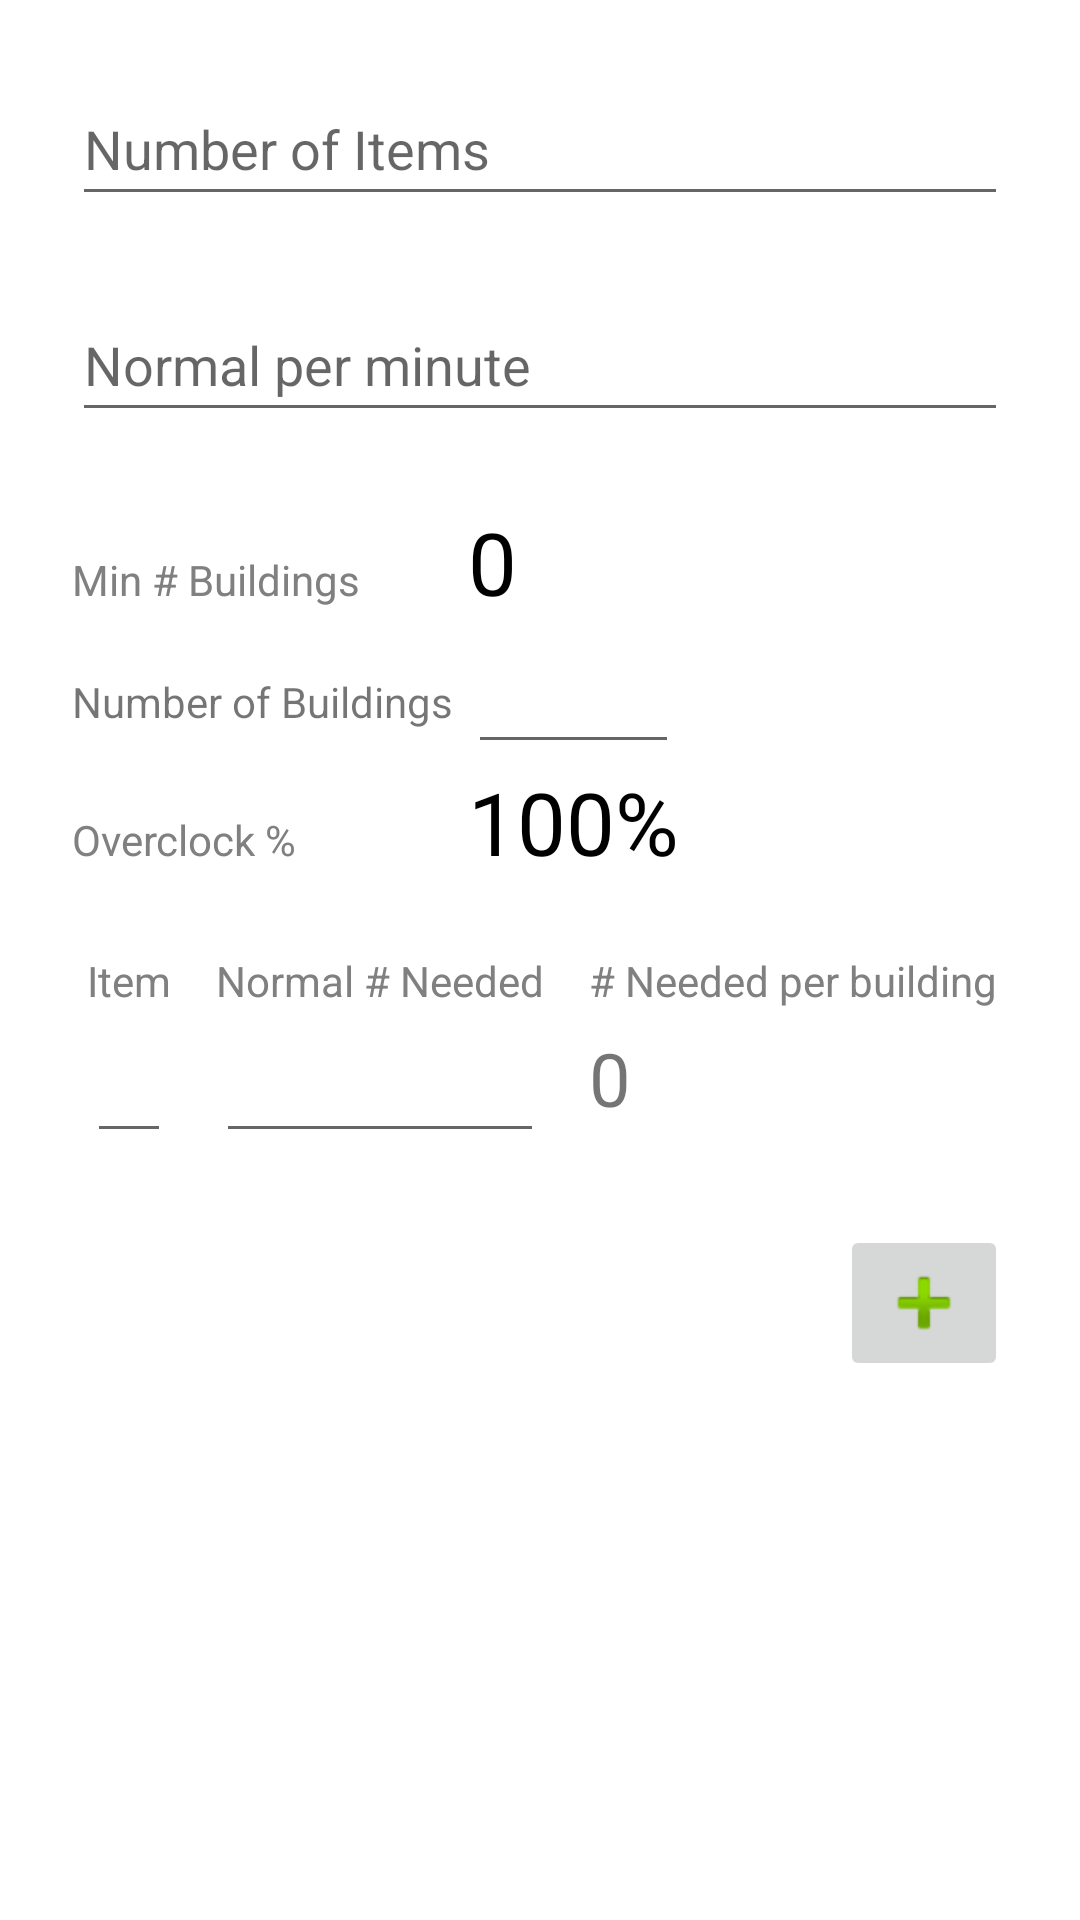

Icon click points for this 1080×1920 phone screenshot, format (x,y):
Add Row: (924,1303)
